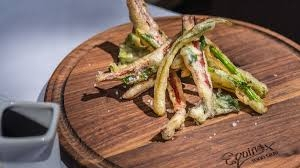kitchen_waste: (179, 11, 271, 118), (125, 1, 191, 110), (149, 16, 215, 114)
